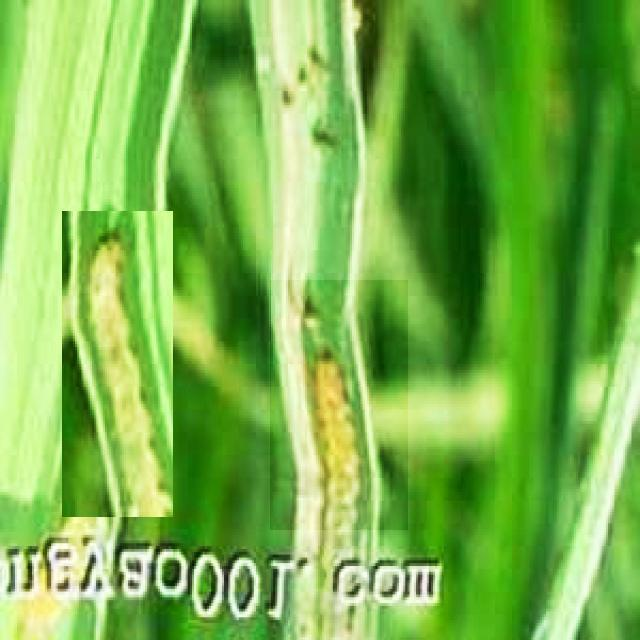leaf-folder: (270, 280, 408, 530), (62, 211, 173, 517)
